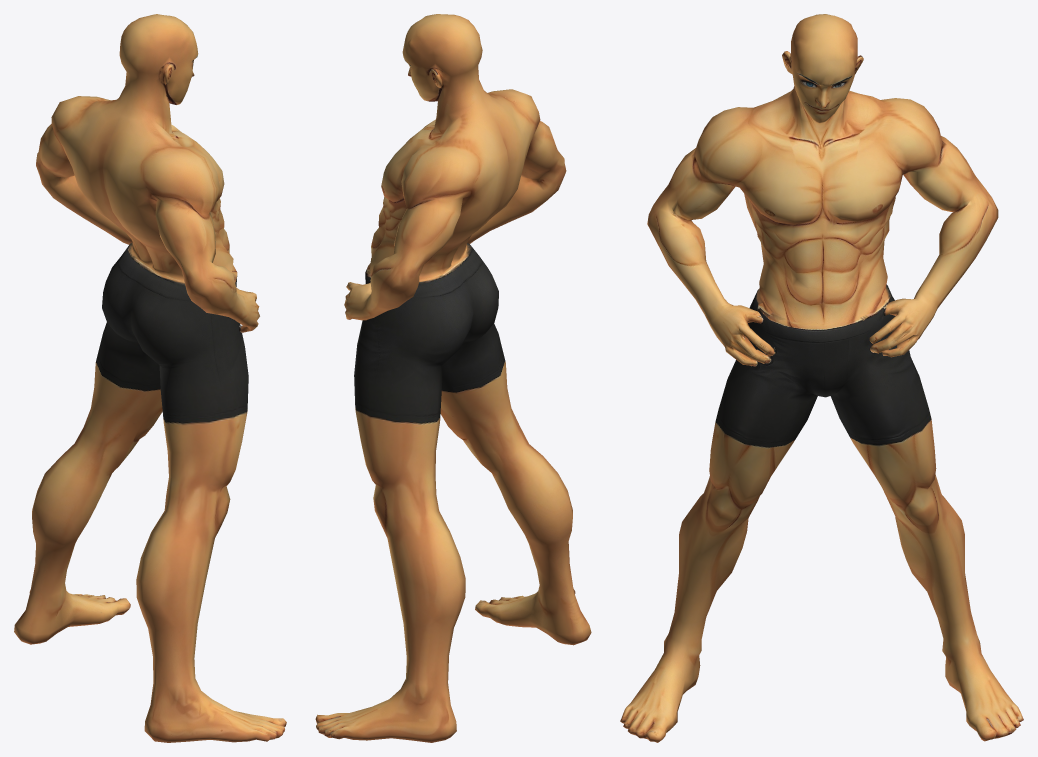
File: Careca_01.glb
3 renders of one model, left to right at view 1: azimuth 30°, elevation 25°; view 2: azimuth 150°, elevation 25°; view 3: azimuth 270°, elevation 25°, orthographic. The views are drawn at different scales.
Parts seen in each view (by area): view 1: tripo_node_1ca4b2a2-be0a-4c4e-b561-d5c90ee9fcde; view 2: tripo_node_1ca4b2a2-be0a-4c4e-b561-d5c90ee9fcde; view 3: tripo_node_1ca4b2a2-be0a-4c4e-b561-d5c90ee9fcde.
Boxes of the visible parts, <box> form: tripo_node_1ca4b2a2-be0a-4c4e-b561-d5c90ee9fcde: <box>14,14,286,742</box>; tripo_node_1ca4b2a2-be0a-4c4e-b561-d5c90ee9fcde: <box>315,14,591,742</box>; tripo_node_1ca4b2a2-be0a-4c4e-b561-d5c90ee9fcde: <box>620,14,1023,742</box>.
Bounding box in the file's own units: 0.2285 × 0.998 × 0.5215.
1 material, 1 textured.
